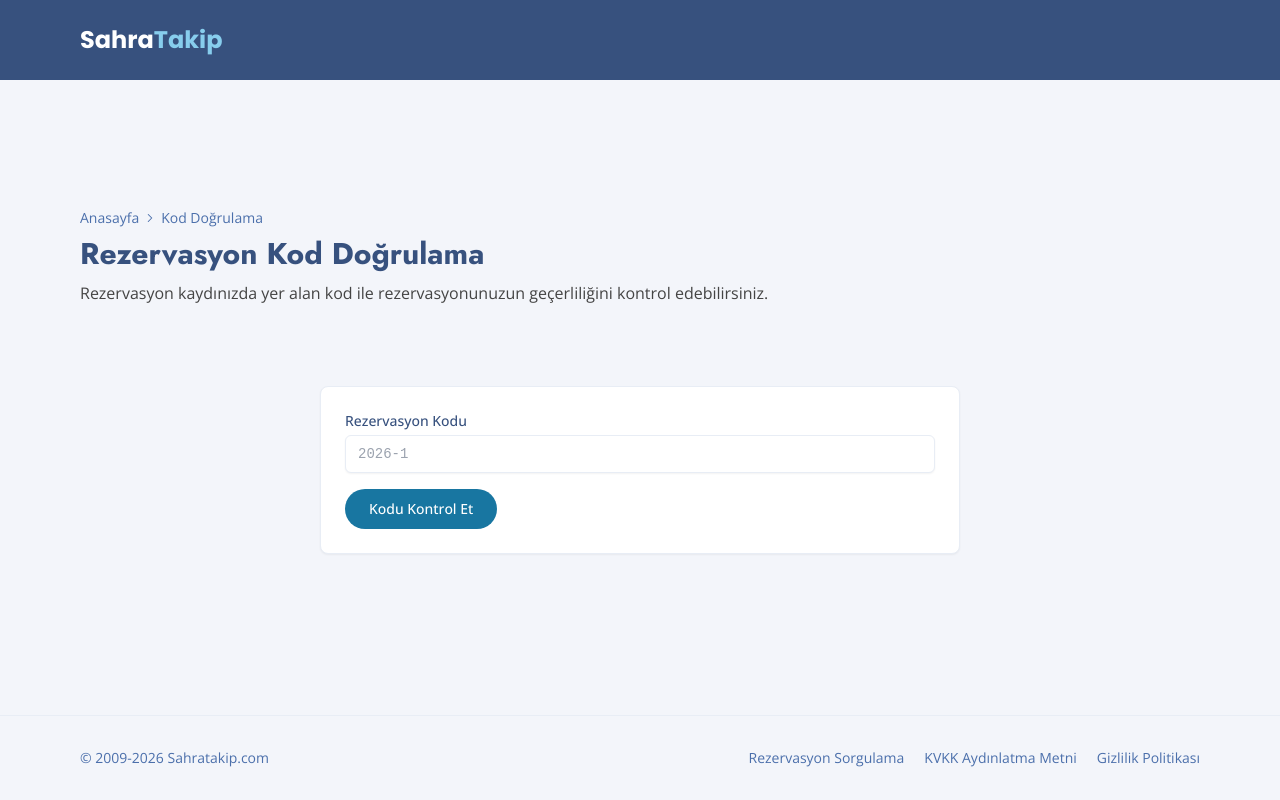
Test: Kod Doğrulama › boş kodda uyarı verir
This screenshot has width=1280, height=800.
Click the button "Kodu Kontrol Et" at (421, 509), box [345,489,497,529]
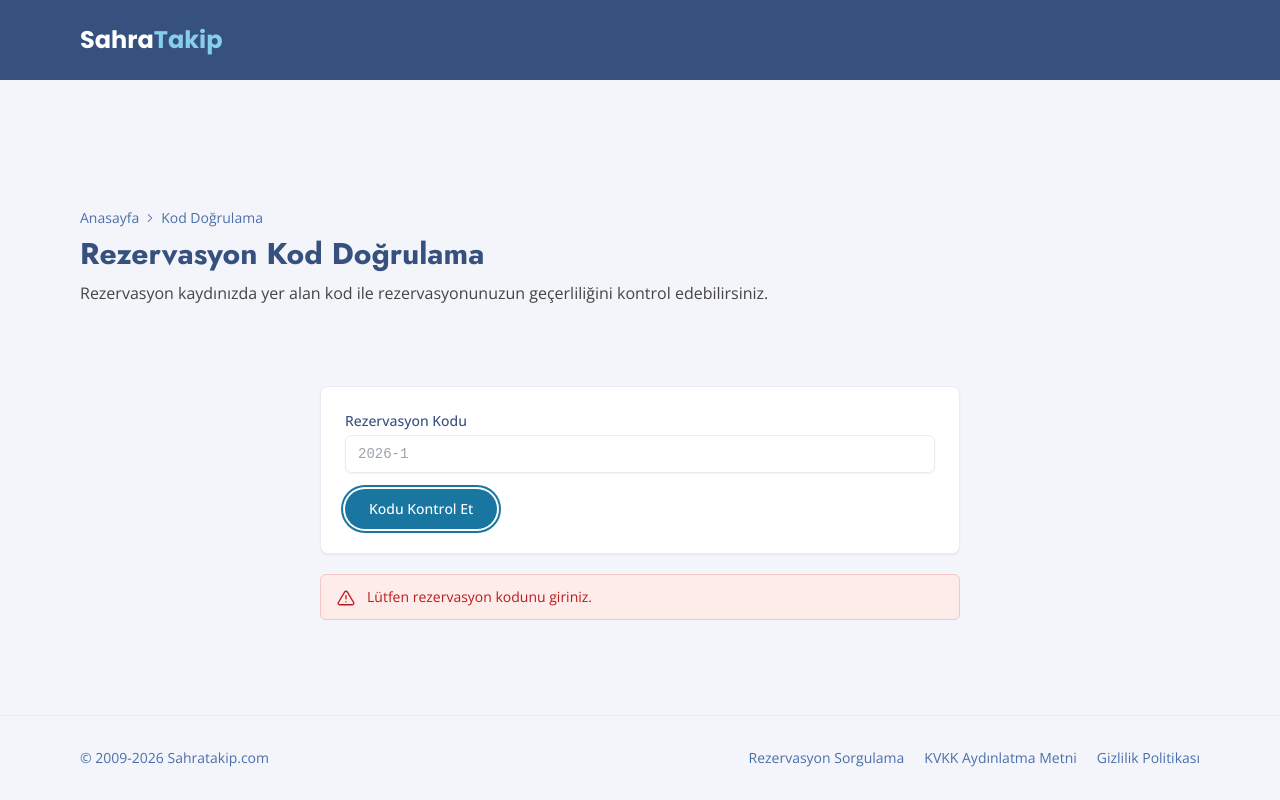
Result: the text "Lütfen rezervasyon kodunu giriniz." is shown at [367,587,592,606]
